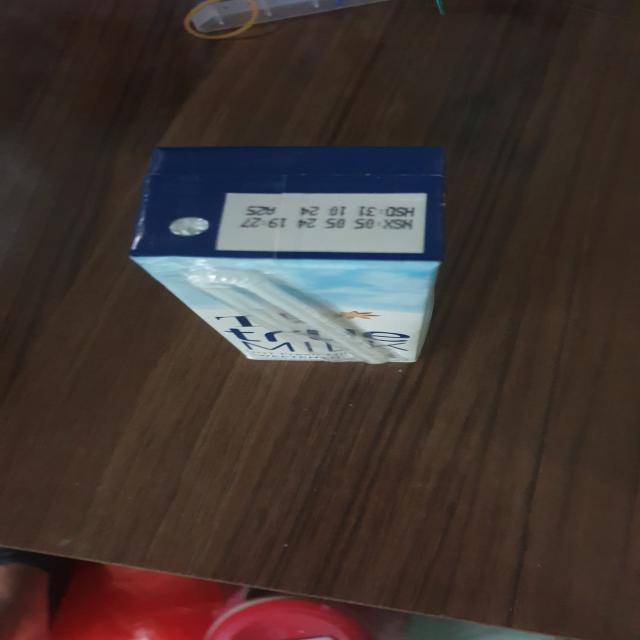TH: (127, 147, 450, 364)
